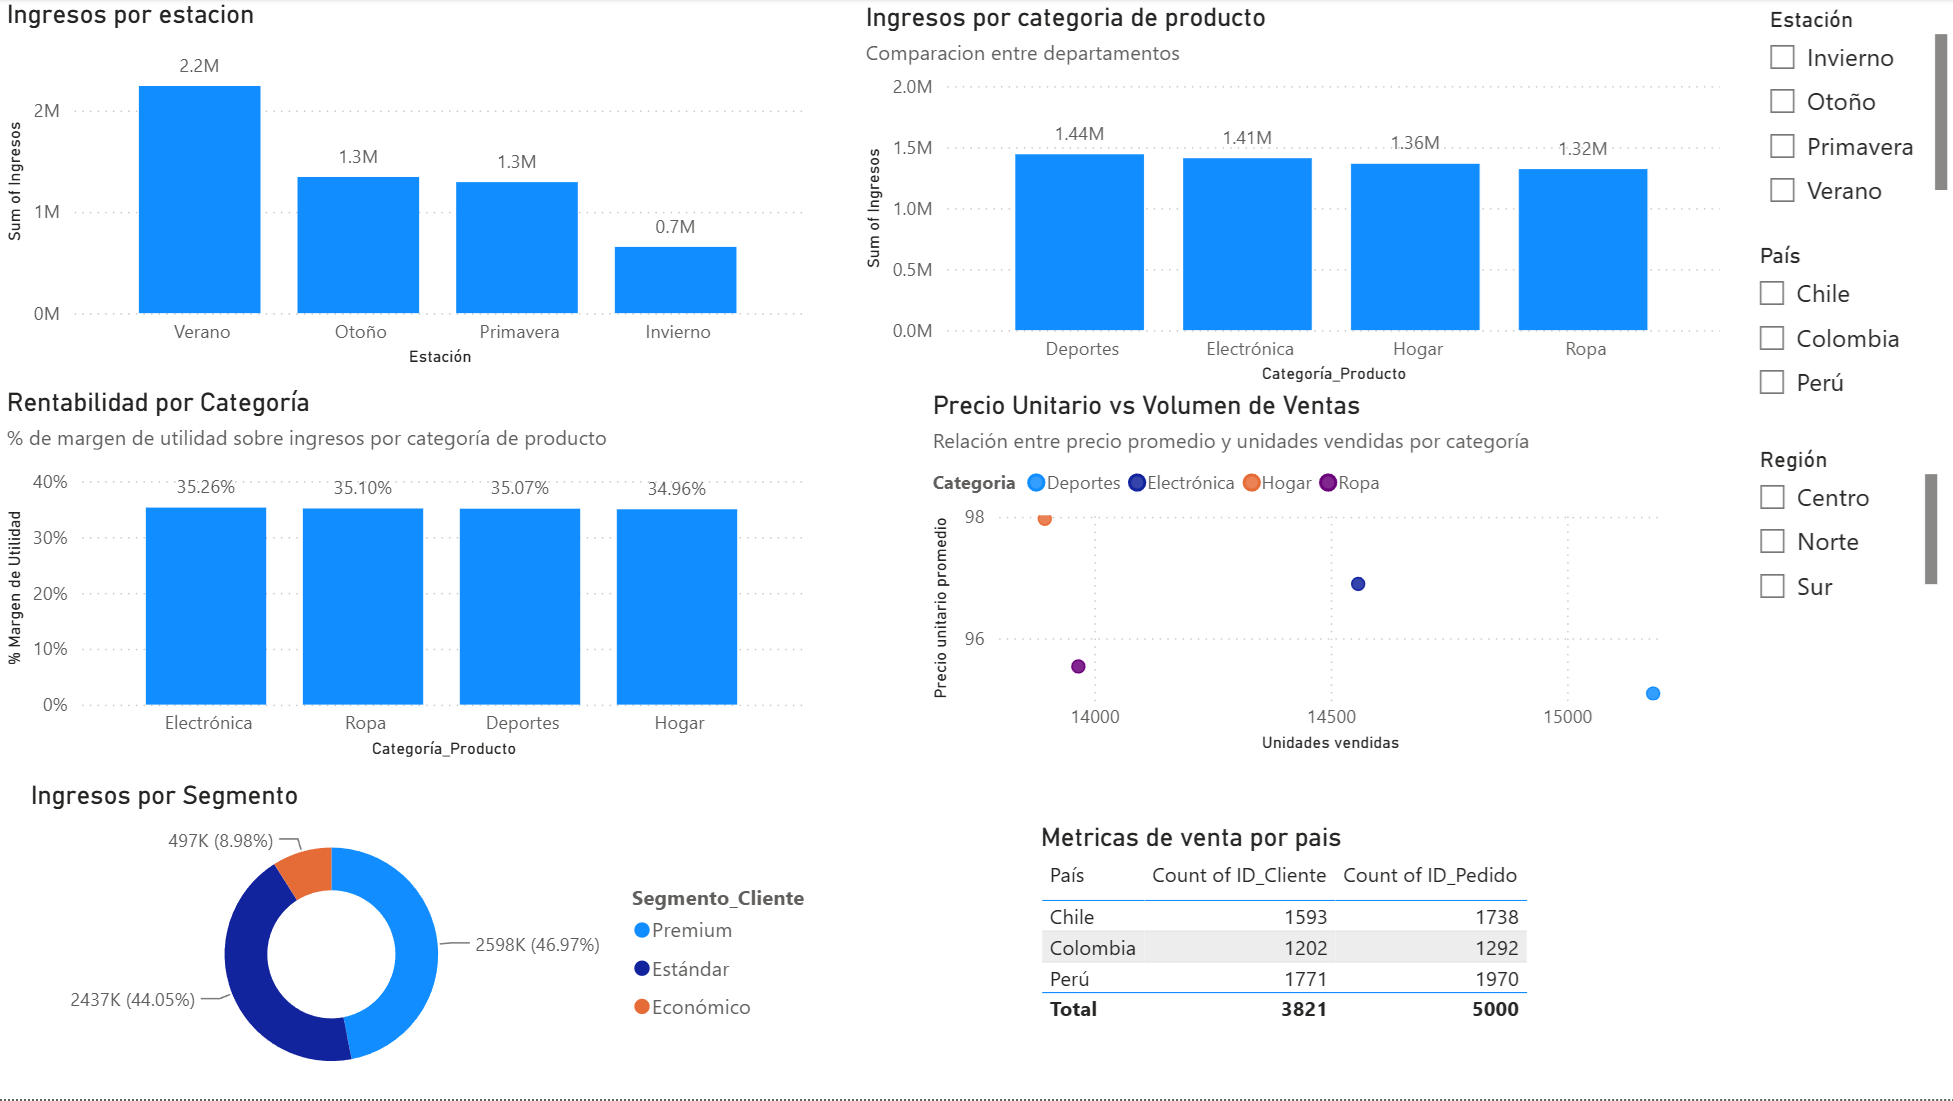

The dashboard page shown, as its layout file describes it:
{"tool":"powerbi","page":{"name":"Detalle","canvas":[1280,720],"ordinal":1},"visuals":[{"type":"columnChart","title":"Rentabilidad por Categoría","fields":{"Y":["Andes_Retail_Group_2024_2025.% Margen de Utilidad"],"Category":["Andes_Retail_Group_2024_2025.Categoría_Producto"]},"box":[0,253.7,532.6,246.9],"z":0},{"type":"scatterChart","title":"Precio Unitario vs Volumen de Ventas","fields":{"X":["Sum(Andes_Retail_Group_2024_2025.Unidades_Vendidas)"],"Y":["Avg(Andes_Retail_Group_2024_2025.Precio_Unitario)"],"Series":["Andes_Retail_Group_2024_2025.Categoría_Producto"]},"box":[605.7,256,504,241.1],"z":1000},{"type":"columnChart","title":"Ingresos por estacion","fields":{"Category":["Andes_Retail_Group_2024_2025.Estación"],"Y":["Sum(Andes_Retail_Group_2024_2025.Ingresos)"]},"box":[0,0,532.6,244.6],"z":2000},{"type":"slicer","fields":{"Values":["Andes_Retail_Group_2024_2025.Estación"]},"box":[1146.2,0,133.8,141.7],"z":3000},{"type":"donutChart","title":"Ingresos por Segmento","fields":{"Y":["Sum(Andes_Retail_Group_2024_2025.Ingresos)"],"Category":["Andes_Retail_Group_2024_2025.Segmento_Cliente"]},"box":[16,510.9,532.6,209.1],"z":4000},{"type":"slicer","fields":{"Values":["Andes_Retail_Group_2024_2025.País"]},"box":[1139.4,154.3,140.6,133.7],"z":5000},{"type":"tableEx","title":"Metricas de venta por pais","fields":{"Values":["Andes_Retail_Group_2024_2025.País","Andes_Retail_Group_2024_2025.ID_Cliente","Count(Andes_Retail_Group_2024_2025.ID_Pedido)"]},"box":[676.6,538.3,454.9,173.7],"z":6000},{"type":"columnChart","title":"Ingresos por categoria de producto","fields":{"Y":["Sum(Andes_Retail_Group_2024_2025.Ingresos)"],"Category":["Andes_Retail_Group_2024_2025.Categoría_Producto"]},"box":[562.3,2.3,569.1,253.7],"z":7000},{"type":"slicer","fields":{"Values":["Andes_Retail_Group_2024_2025.Región"]},"box":[1139.4,288,133.7,112],"z":8000}]}

Visuals, with their boxes in screenshot pixels (x1, y1, x2, y2), scaled from the page's 1280x720 canvas onto the 1953x1101 screenshot:
"Rentabilidad por Categoría" columnChart: [left=0, top=388, right=813, bottom=766]
"Precio Unitario vs Volumen de Ventas" scatterChart: [left=924, top=391, right=1693, bottom=760]
"Ingresos por estacion" columnChart: [left=0, top=0, right=813, bottom=374]
slicer - Andes_Retail_Group_2024_2025.Estación: [left=1749, top=0, right=1952, bottom=217]
"Ingresos por Segmento" donutChart: [left=24, top=781, right=837, bottom=1100]
slicer - Andes_Retail_Group_2024_2025.País: [left=1738, top=236, right=1952, bottom=440]
"Metricas de venta por pais" tableEx: [left=1032, top=823, right=1726, bottom=1089]
"Ingresos por categoria de producto" columnChart: [left=858, top=4, right=1726, bottom=391]
slicer - Andes_Retail_Group_2024_2025.Región: [left=1738, top=440, right=1942, bottom=612]
